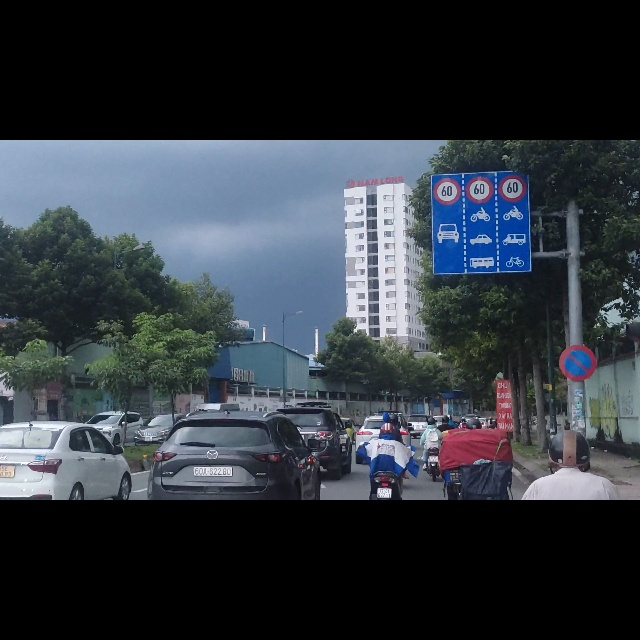bien_chi_dan: (431, 116, 532, 233), (559, 365, 597, 430), (431, 61, 461, 117), (498, 62, 527, 111), (466, 65, 493, 113)
